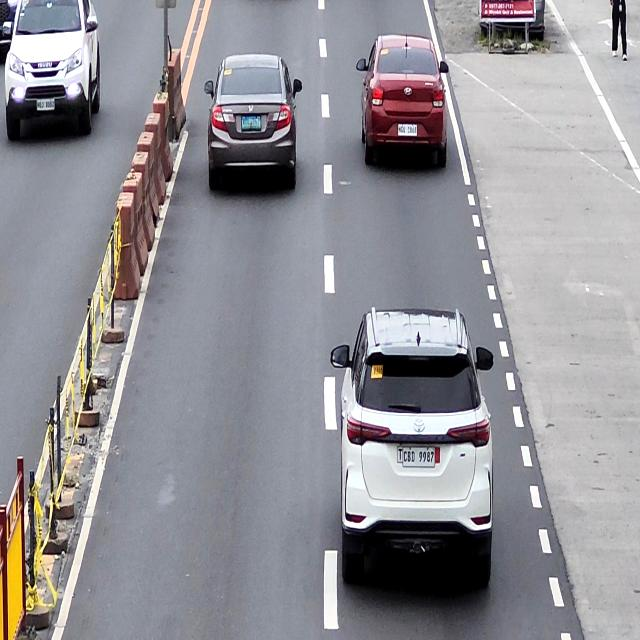Car: (330, 306, 496, 597), (205, 54, 302, 195), (356, 34, 449, 172)
License-Plate: (404, 446, 436, 468), (241, 115, 261, 132), (398, 125, 417, 136)
